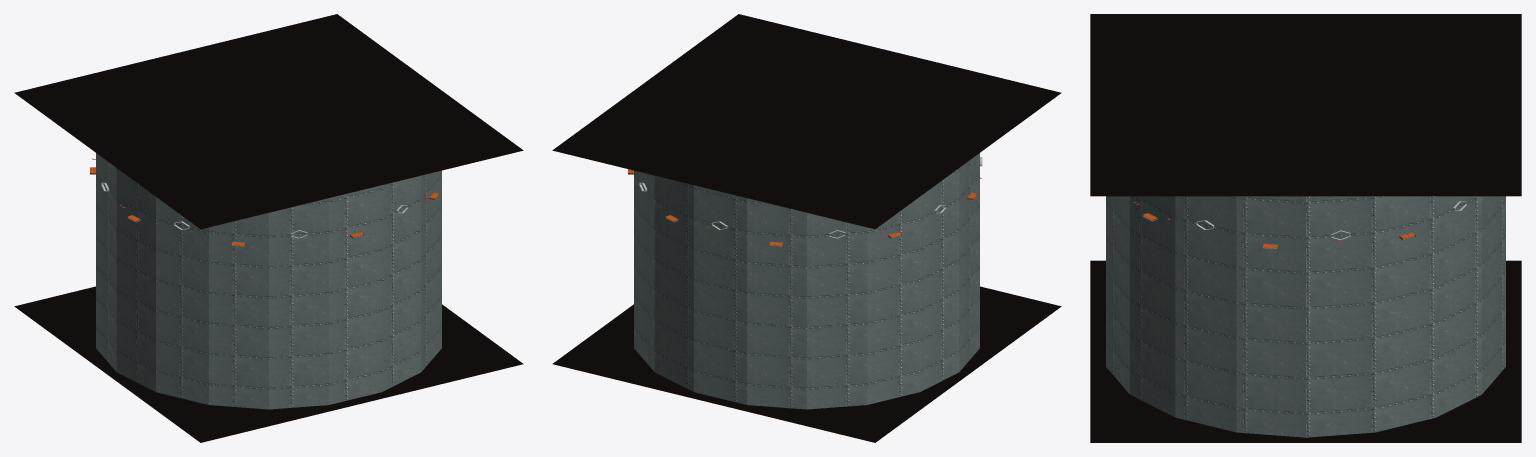
File: Bullet Station Tunnel.fbx
3 renders of one model, left to right at view 1: azimuth 30°, elevation 25°; view 2: azimuth 150°, elevation 25°; view 3: azimuth 270°, elevation 25°, orthographic. The views are drawn at different scales.
Visible parts, largest first — view 1: OBJ08_TUNNEL; view 2: OBJ08_TUNNEL; view 3: OBJ08_TUNNEL.
Part boxes in pixels (x1,y1,x2,y2): OBJ08_TUNNEL: (14, 14, 523, 442); OBJ08_TUNNEL: (552, 14, 1061, 442); OBJ08_TUNNEL: (1090, 14, 1521, 442).
Bounding box in the file's own units: 1146633 × 725000 × 1146633.
